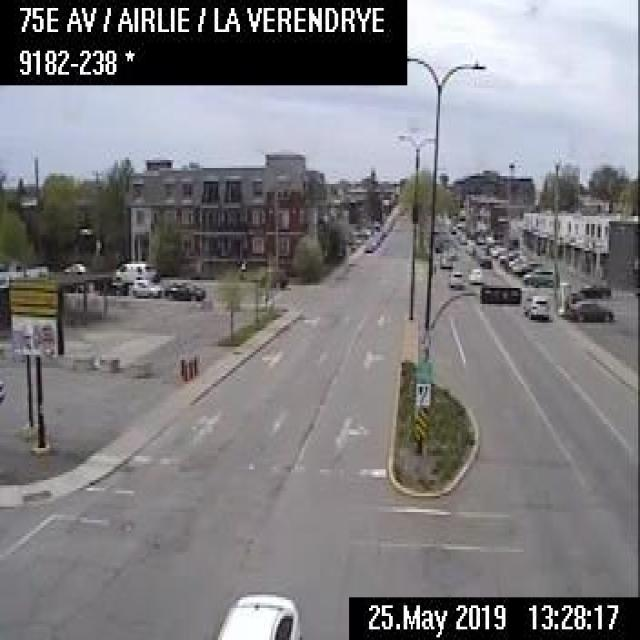construction: (190, 354, 197, 375), (181, 359, 187, 381), (186, 358, 192, 378)
vehicle: (214, 587, 302, 637), (565, 298, 612, 322), (111, 258, 156, 280), (162, 278, 205, 300), (522, 291, 553, 317), (130, 276, 162, 296), (521, 265, 553, 284), (578, 281, 610, 296), (511, 259, 539, 273), (448, 269, 463, 288), (466, 266, 482, 283), (62, 260, 84, 272), (478, 251, 492, 268), (438, 254, 452, 268), (364, 234, 374, 250)
